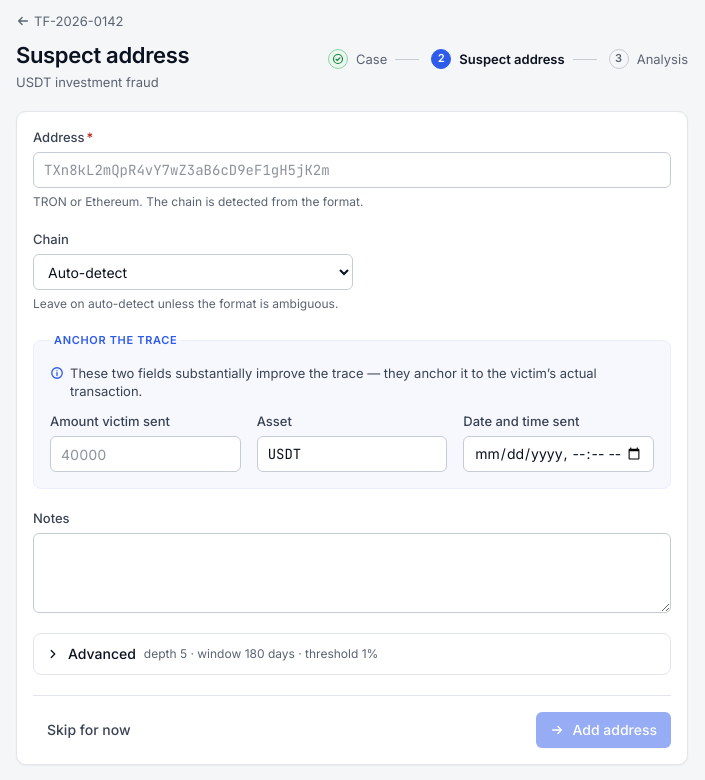
Test: suspect address intake › says how long the address should have been
In the field labelled "Address*": (352, 170) [33,152,671,188], type "TXn8kL2mQpR4vY7wZ3aB6cD9eF1gH5jK"
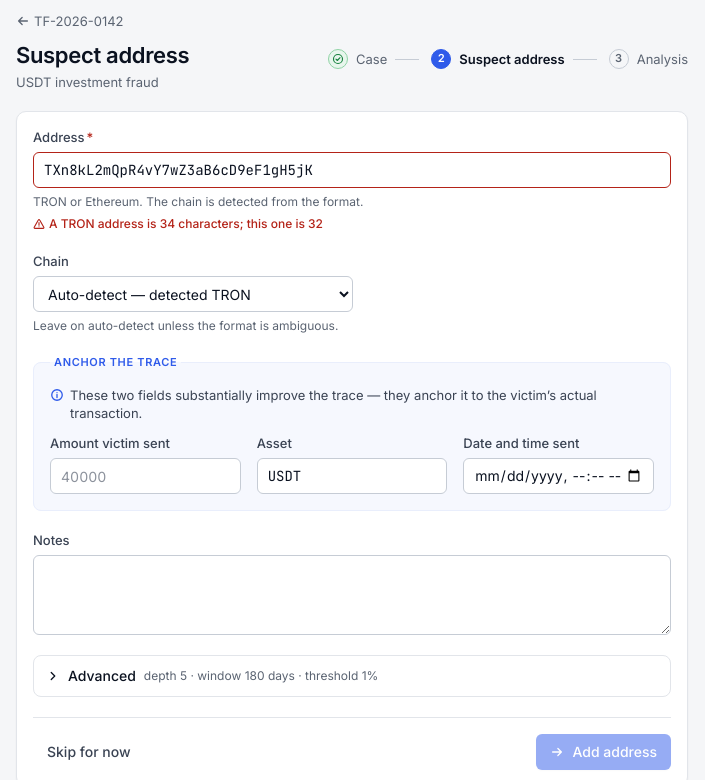
expect the text "A TRON address is 34 characters; this one is 32" is shown: met, box [49,216,323,232]
